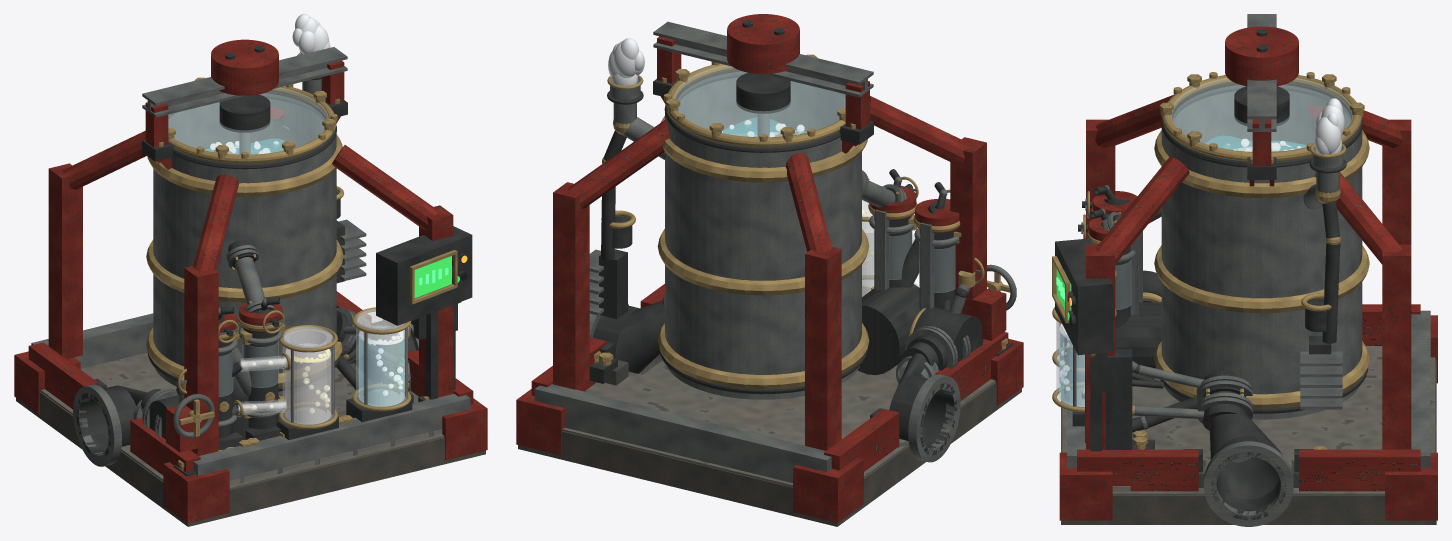
File: water-purifier-v14.glb
3 views of the same model, side by side, from view 1: azimuth 30°, elevation 25°; view 2: azimuth 150°, elevation 25°; view 3: azimuth 270°, elevation 25° (orthographic). The views are drawn at different scales.
Visible parts, largest first — view 1: TP_MH7_V14 | UV surfaced / FMPL_PROCESS | open double-wall s, FMPL_PROCESS | bore-cleared original concrete foundation, MH7_chassis width rail, MH7_cast red load column.001, FMPL_PROCESS | transparent observation lid, MH7_cast red load column, FMPL_PROCESS | bore-cleared raised concrete plinth, TP_MH7_V14 | console / service interface casting, TP_MH7_V14 | UV surfaced / FMPL_PROCESS | raw-water-in / reu (×2), TP_MH7_V14 | UV surfaced / FMPL_PROCESS | sample station 1 e, TP_MH7_V14 | UV surfaced / FMPL_PROCESS | sample station 2 e, FMPL_PROCESS | agitator motor gearbox housing (+43 smaller); view 2: TP_MH7_V14 | UV surfaced / FMPL_PROCESS | open double-wall s, FMPL_PROCESS | bore-cleared raised concrete plinth, MH7_chassis width rail.001, FMPL_PROCESS | bore-cleared original concrete foundation, MH7_cast red load column.001, MH7_cast red load column.003, FMPL_PROCESS | transparent observation lid, TP_MH7_V14 | UV surfaced / FMPL_PROCESS | raw-water-in / reu (×2), MH7_cast red load column, MH7_low supported pump motor, FMPL_PROCESS | agitator motor gearbox housing, MH7_foundation socket.001 (+36 smaller); view 3: TP_MH7_V14 | UV surfaced / FMPL_PROCESS | open double-wall s, FMPL_PROCESS | bore-cleared raised concrete plinth, FMPL_PROCESS | bore-cleared original concrete foundation, FMPL_PROCESS | transparent observation lid, MH7_cast red load column.003, TP_MH7_V14 | UV surfaced / FMPL_PROCESS | purified-water-out (×2), FMPL_PROCESS | split chassis rail / purified-water-out / rea, FMPL_PROCESS | split chassis rail / purified-water-out / fro, FMPL_PROCESS | agitator motor gearbox housing, TP_MH7_V14 | UV surfaced / FMPL_PROCESS | clarified water ou, MH7_pressure sealing bands.001, MH7_cast red load column.001 (+45 smaller).
Part boxes in pixels (box(x1,y1,x2,y2)): TP_MH7_V14 | UV surfaced / FMPL_PROCESS | open double-wall s: box(153, 99, 336, 396); FMPL_PROCESS | bore-cleared original concrete foundation: box(16, 363, 485, 526); MH7_chassis width rail: box(193, 393, 470, 483); MH7_cast red load column.001: box(48, 163, 82, 359); FMPL_PROCESS | transparent observation lid: box(168, 87, 328, 154); MH7_cast red load column: box(184, 265, 218, 455); FMPL_PROCESS | bore-cleared raised concrete plinth: box(40, 352, 444, 489); TP_MH7_V14 | console / service interface casting: box(376, 233, 463, 325); TP_MH7_V14 | UV surfaced / FMPL_PROCESS | raw-water-in / reu (×2): box(73, 384, 136, 466); TP_MH7_V14 | UV surfaced / FMPL_PROCESS | sample station 1 e: box(283, 328, 333, 424); TP_MH7_V14 | UV surfaced / FMPL_PROCESS | sample station 2 e: box(356, 310, 407, 406); FMPL_PROCESS | agitator motor gearbox housing: box(211, 39, 278, 95); TP_MH7_V14 | UV surfaced / FMPL_PROCESS | open double-wall s: box(665, 77, 861, 399); FMPL_PROCESS | bore-cleared raised concrete plinth: box(562, 360, 995, 486); MH7_chassis width rail.001: box(534, 384, 831, 482); FMPL_PROCESS | bore-cleared original concrete foundation: box(518, 354, 1021, 526); MH7_cast red load column.001: box(805, 246, 841, 450); MH7_cast red load column.003: box(553, 182, 589, 390); FMPL_PROCESS | transparent observation lid: box(674, 65, 845, 137); TP_MH7_V14 | UV surfaced / FMPL_PROCESS | raw-water-in / reu (×2): box(889, 374, 960, 462); MH7_cast red load column: box(950, 137, 986, 313); MH7_low supported pump motor: box(858, 284, 919, 375); FMPL_PROCESS | agitator motor gearbox housing: box(727, 14, 799, 73); MH7_foundation socket.001: box(793, 457, 863, 522); TP_MH7_V14 | UV surfaced / FMPL_PROCESS | open double-wall s: box(1161, 91, 1362, 419); FMPL_PROCESS | bore-cleared raised concrete plinth: box(1062, 346, 1435, 495); FMPL_PROCESS | bore-cleared original concrete foundation: box(1061, 359, 1436, 524); FMPL_PROCESS | transparent observation lid: box(1171, 78, 1353, 151); MH7_cast red load column.003: box(1382, 244, 1411, 449); TP_MH7_V14 | UV surfaced / FMPL_PROCESS | purified-water-out (×2): box(1203, 436, 1293, 526); FMPL_PROCESS | split chassis rail / purified-water-out / rea: box(1299, 449, 1420, 491); FMPL_PROCESS | split chassis rail / purified-water-out / fro: box(1077, 449, 1198, 491); FMPL_PROCESS | agitator motor gearbox housing: box(1225, 26, 1298, 86); TP_MH7_V14 | UV surfaced / FMPL_PROCESS | clarified water ou: box(1209, 412, 1279, 499); MH7_pressure sealing bands.001: box(1154, 245, 1369, 313); MH7_cast red load column.001: box(1382, 119, 1411, 244).
Bounding box in the file's own units: 3 × 3.39 × 2.92.
32 materials, 14 textured.
